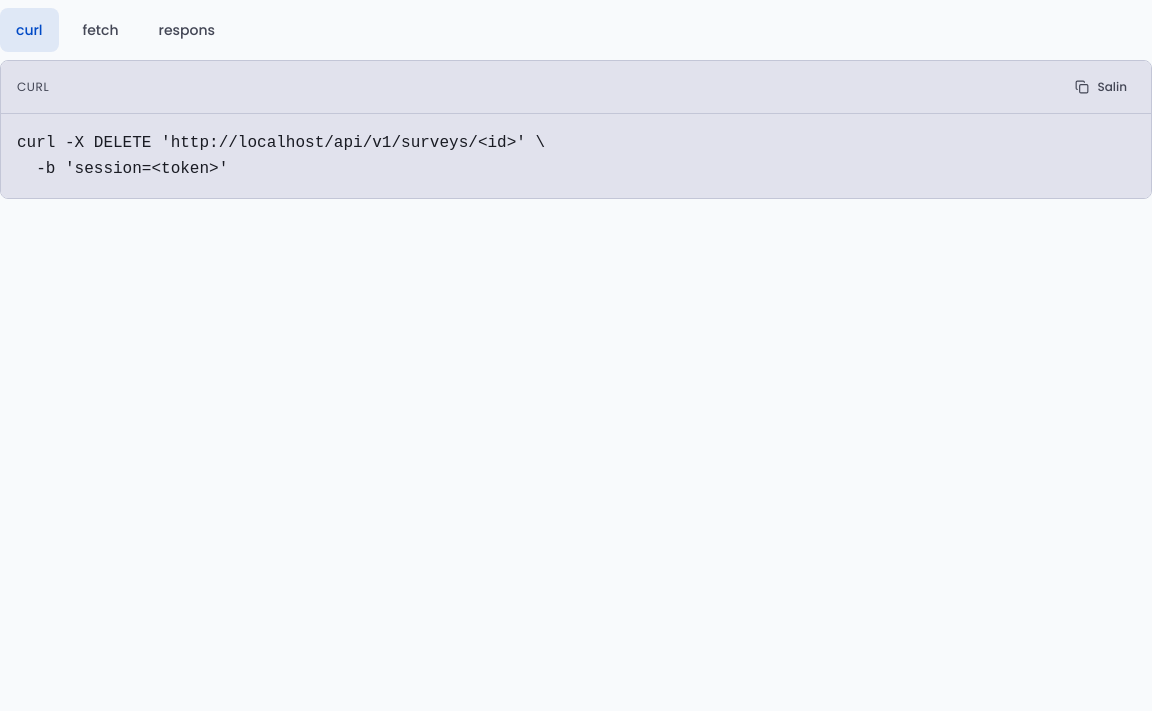
it: TabSnippet › menyebut skema respons yang belum dideklarasikan, bukan mengarang bentuk
Click the button "respons".
click(187, 30)  # box [142,8,231,52]
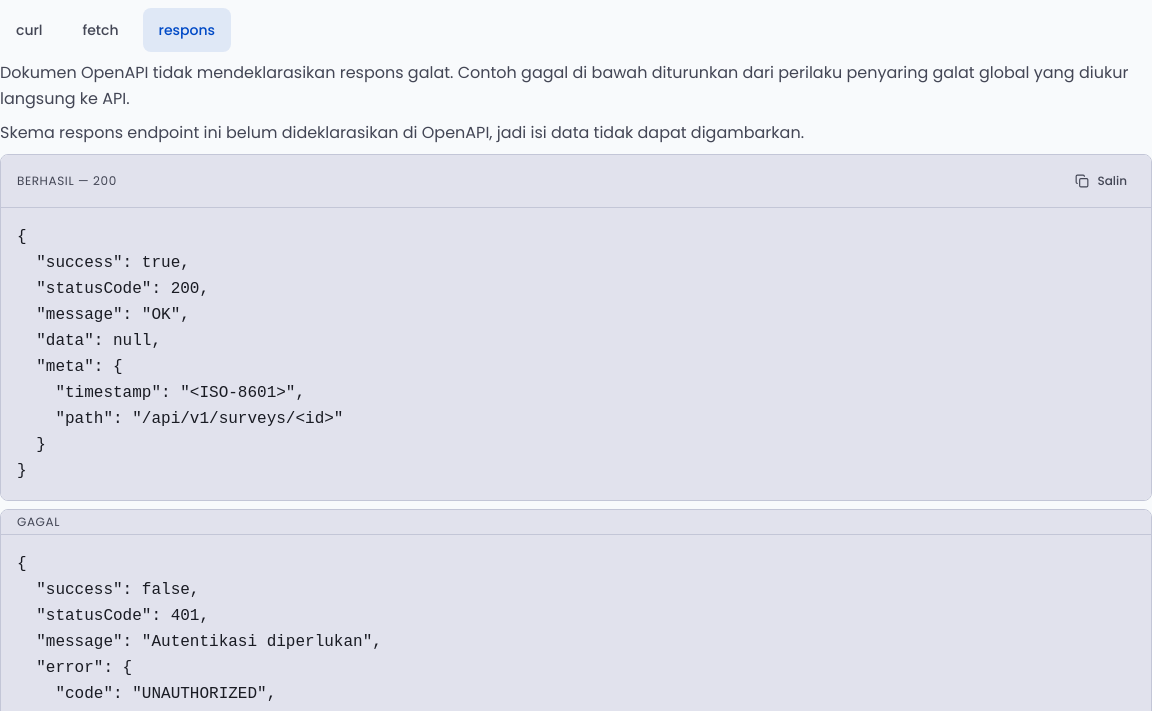
expect the element with test id "contoh-berhasil" shows "\"data\": null": met, box [17,228,344,480]
